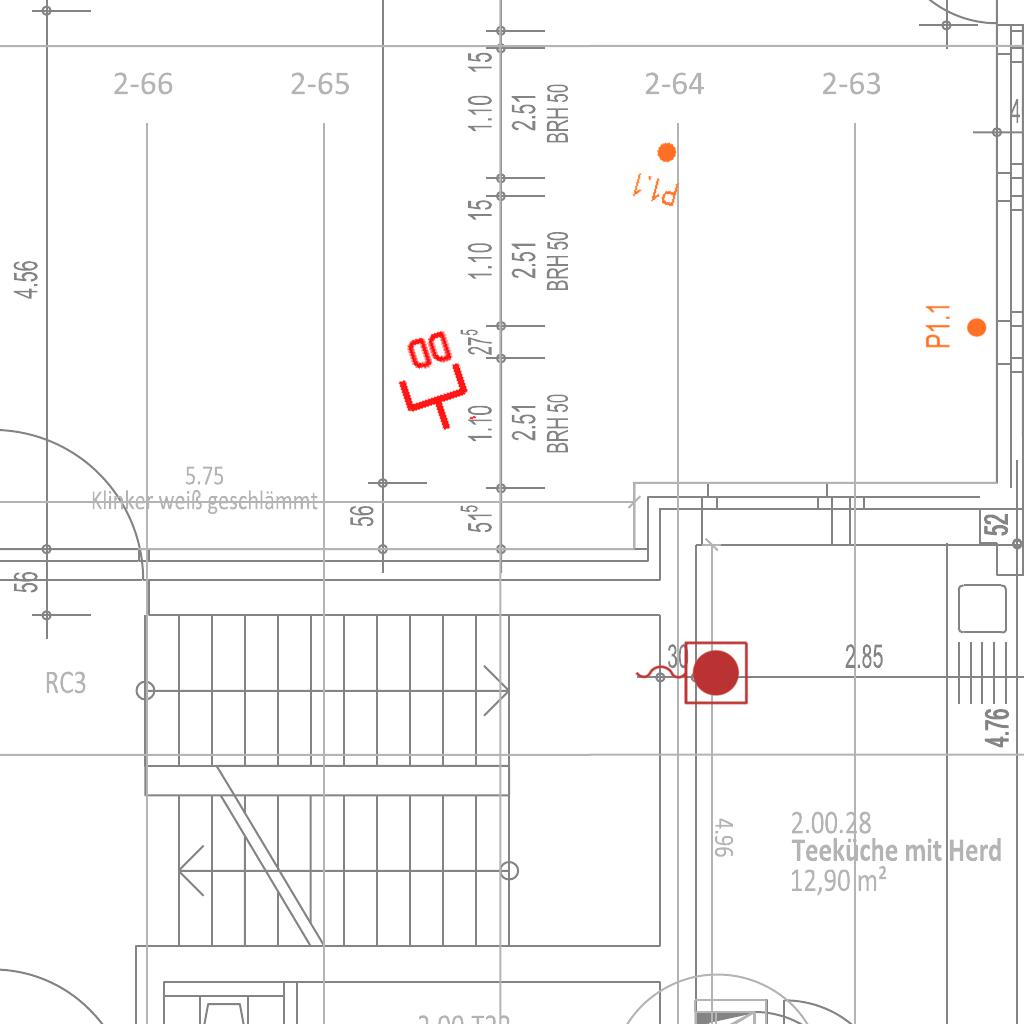Datenanschluss_zweifach: (381, 323, 480, 444)
Downlight_LED_Einbauleuchten_Flur: (629, 135, 691, 209), (924, 303, 988, 349)
Zugtaster: (630, 636, 752, 708)
